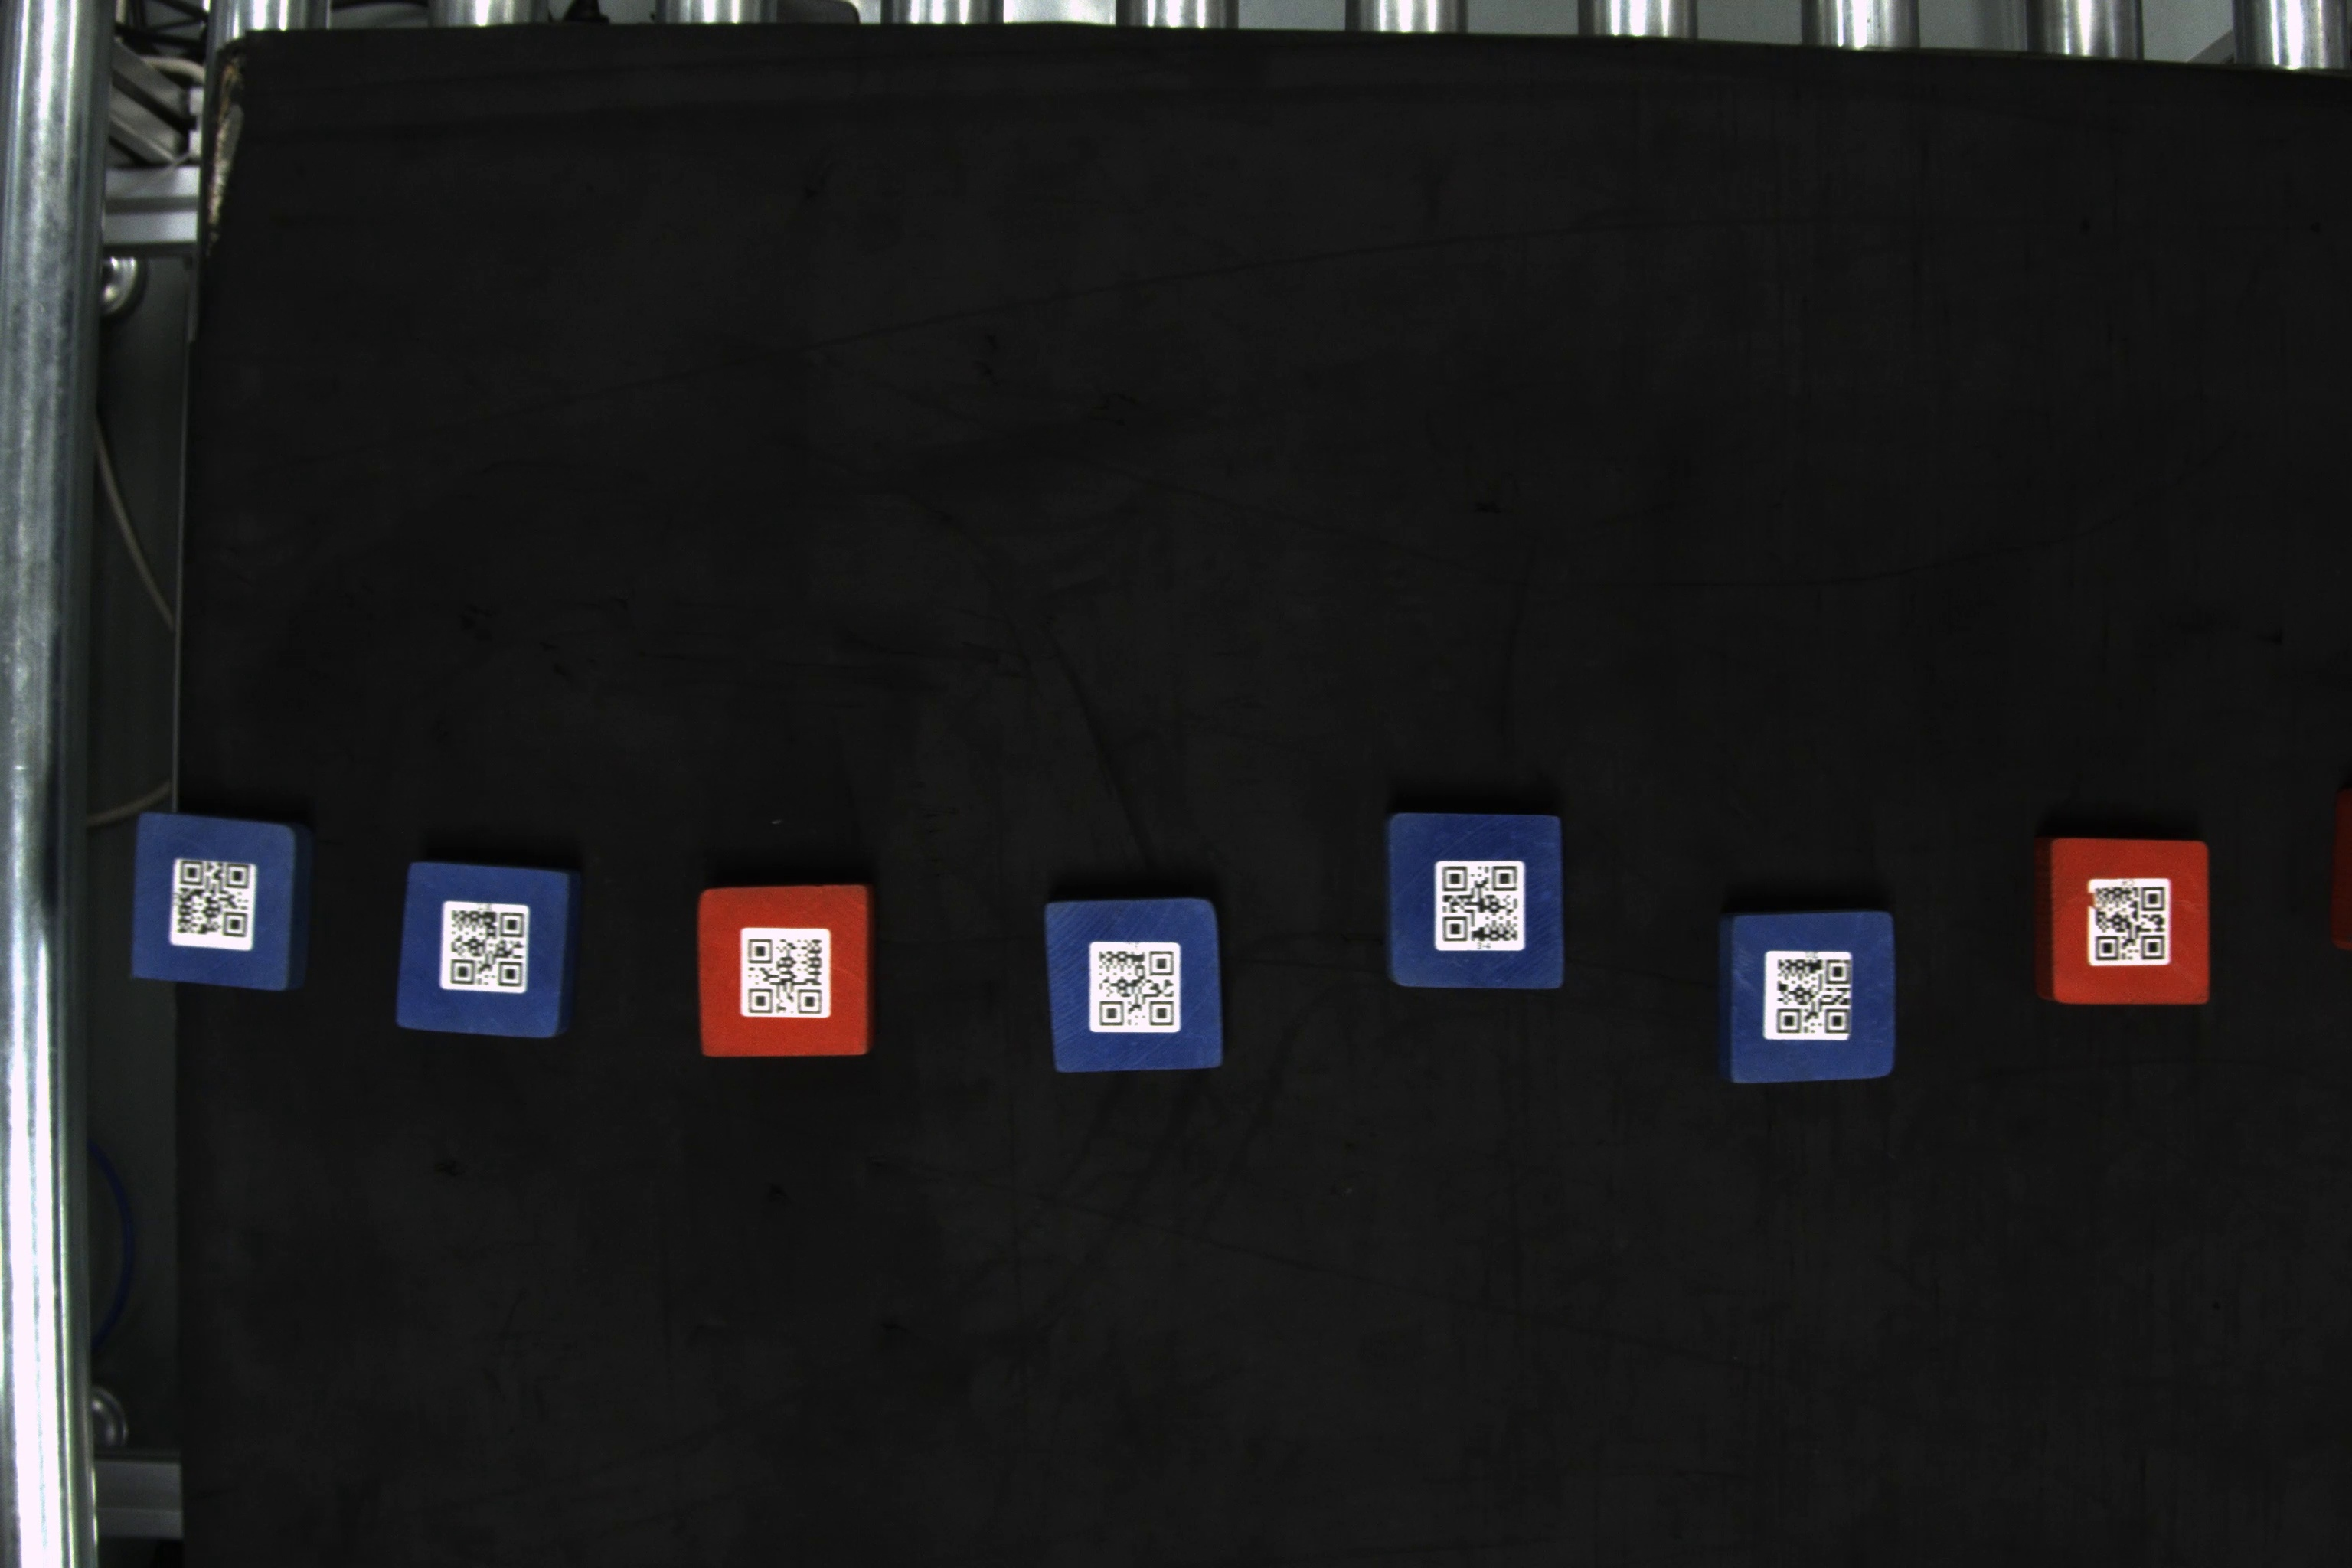wood: (1711, 906, 1904, 1090), (394, 856, 579, 1043), (1386, 807, 1571, 992), (126, 805, 306, 996), (1039, 896, 1228, 1074), (695, 884, 880, 1062), (2028, 833, 2215, 1006)
